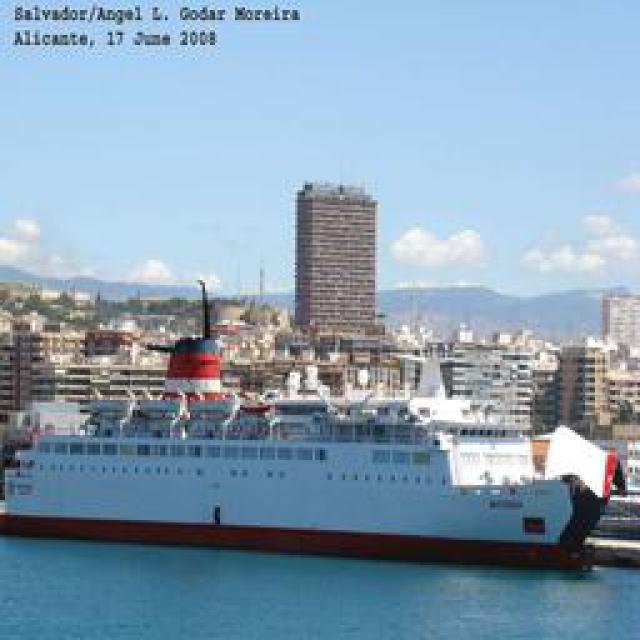Ship: (10, 339, 618, 569)
